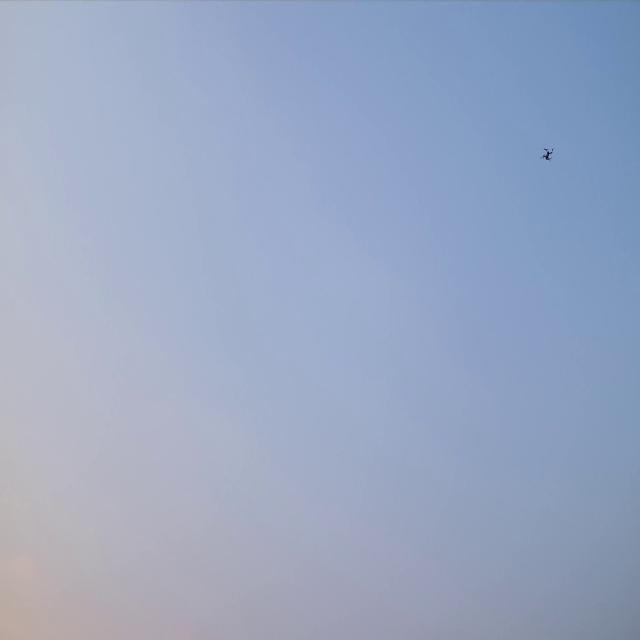UAV: (543, 149, 552, 159)
